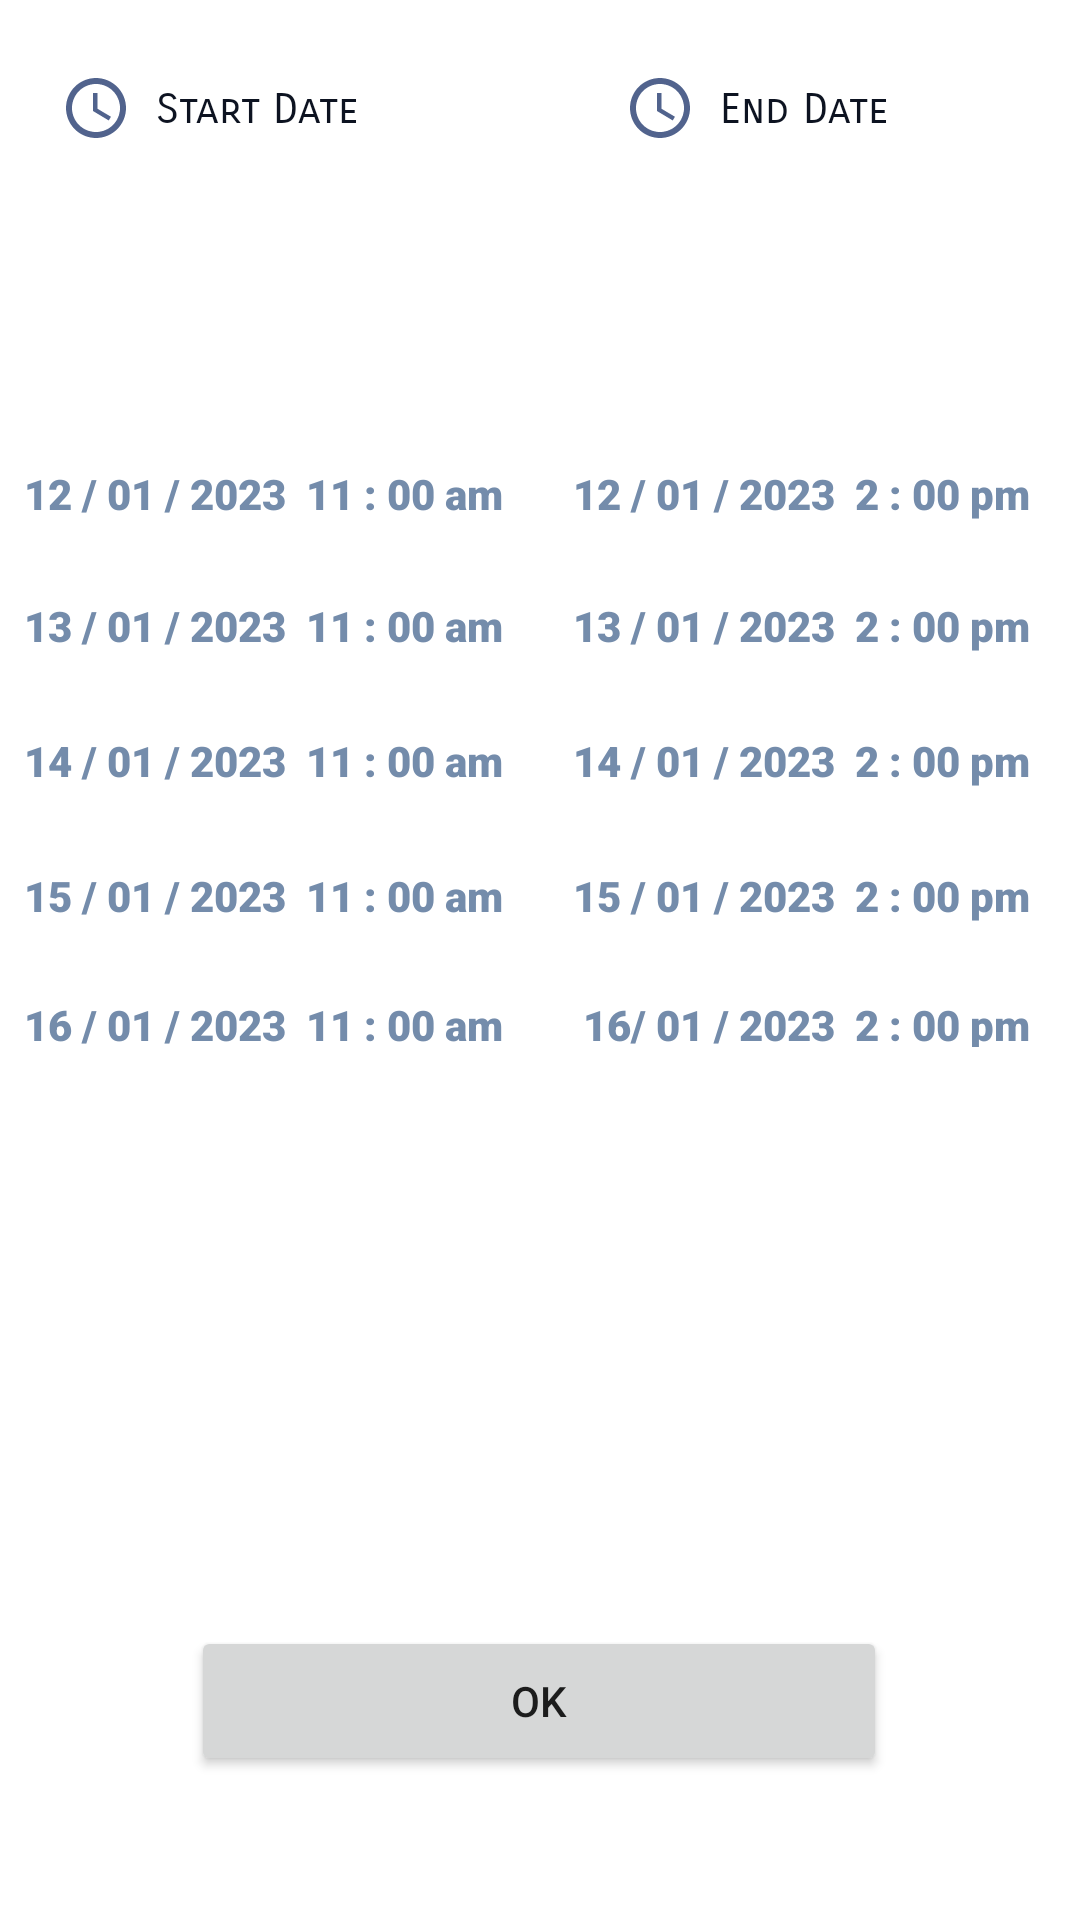

Locate icon controls on the screen. Image size 1080 x 1920, boxes as detection(x1, y1, x2, y2).
access time: detection(66, 78, 126, 138), detection(630, 78, 690, 138)
